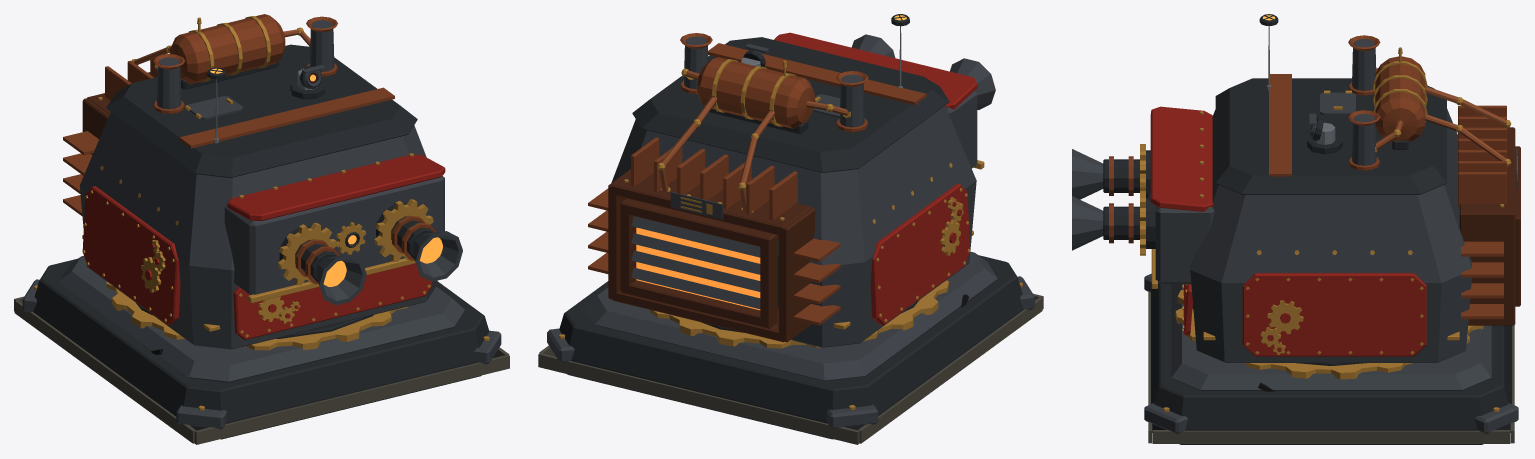
File: bastion_cog.fbx
3 renders of one model, left to right at view 1: azimuth 30°, elevation 25°; view 2: azimuth 150°, elevation 25°; view 3: azimuth 270°, elevation 25°, orthographic.
Visible parts, largest first — view 1: Turret, Body, Heatsink; view 2: Turret, Body, Heatsink, Vent; view 3: Turret, Body, Heatsink.
Boxes of the visible parts, bbox=[...] form: Turret: bbox=[79, 14, 462, 349]; Body: bbox=[14, 255, 509, 444]; Heatsink: bbox=[63, 45, 171, 215]; Turret: bbox=[611, 14, 995, 347]; Body: bbox=[538, 251, 1043, 444]; Heatsink: bbox=[588, 97, 840, 342]; Vent: bbox=[636, 227, 760, 310]; Turret: bbox=[1072, 14, 1471, 362]; Body: bbox=[1144, 273, 1518, 444]; Heatsink: bbox=[1425, 87, 1520, 325].
Size of the model in its own units: 11.41 by 10.58 by 13.67.
Materials: 7 (3 with a texture image).
